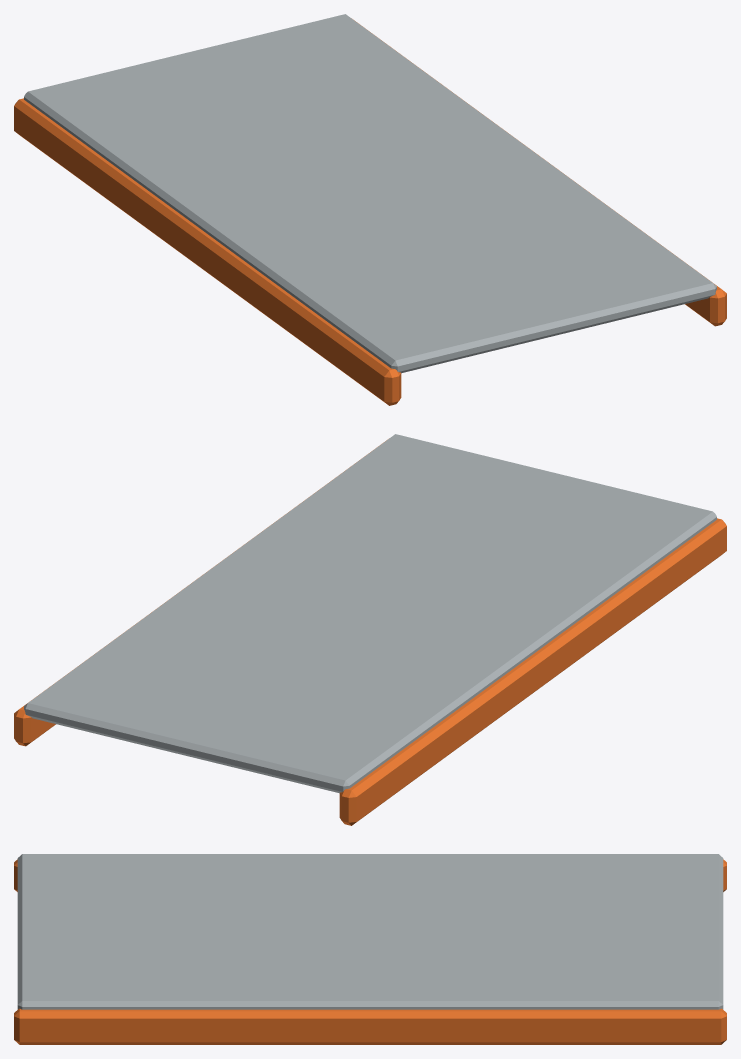
File: sm_env_depot_shelf_deck.glb
The picture shows the model from 3 angles, top to bottom: view 1: azimuth 30°, elevation 25°; view 2: azimuth 150°, elevation 25°; view 3: azimuth 270°, elevation 25°; orthographic projection. The views are drawn at different scales.
Visible parts, largest first — view 1: Deck, DeckBeam, DeckBeam.001; view 2: Deck, DeckBeam, DeckBeam.001; view 3: Deck, DeckBeam.001.
Part boxes in pixels (x1=…): Deck: x1=24, y1=14, x2=716, y2=373; DeckBeam: x1=14, y1=98, x2=401, y2=405; DeckBeam.001: x1=353, y1=19, x2=726, y2=326; Deck: x1=24, y1=434, x2=716, y2=793; DeckBeam: x1=339, y1=518, x2=726, y2=825; DeckBeam.001: x1=14, y1=439, x2=387, y2=746; Deck: x1=17, y1=854, x2=723, y2=1009; DeckBeam.001: x1=14, y1=1008, x2=726, y2=1044.
Bounding box in the file's own units: 1.01 × 0.12 × 1.92.
